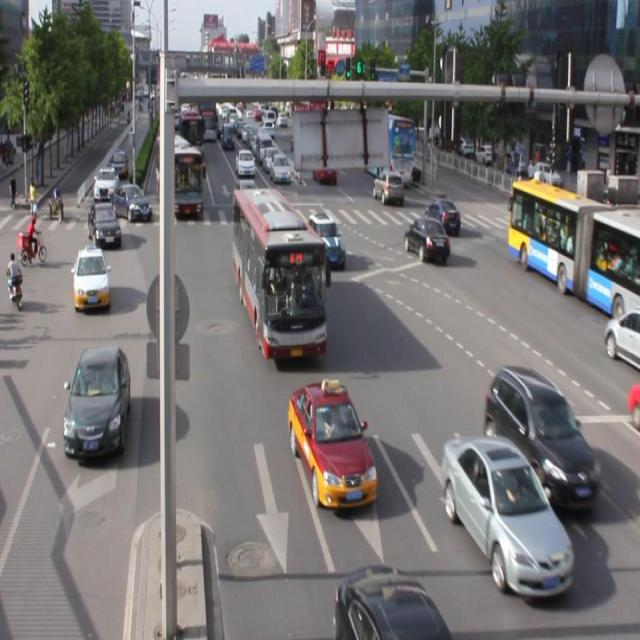car: (440, 432, 574, 592), (483, 362, 598, 509), (287, 379, 377, 508), (332, 560, 452, 640), (63, 343, 132, 456), (601, 306, 640, 370), (402, 215, 450, 261), (306, 212, 346, 267), (423, 197, 460, 233)
van: (509, 180, 640, 321), (232, 188, 326, 356)
